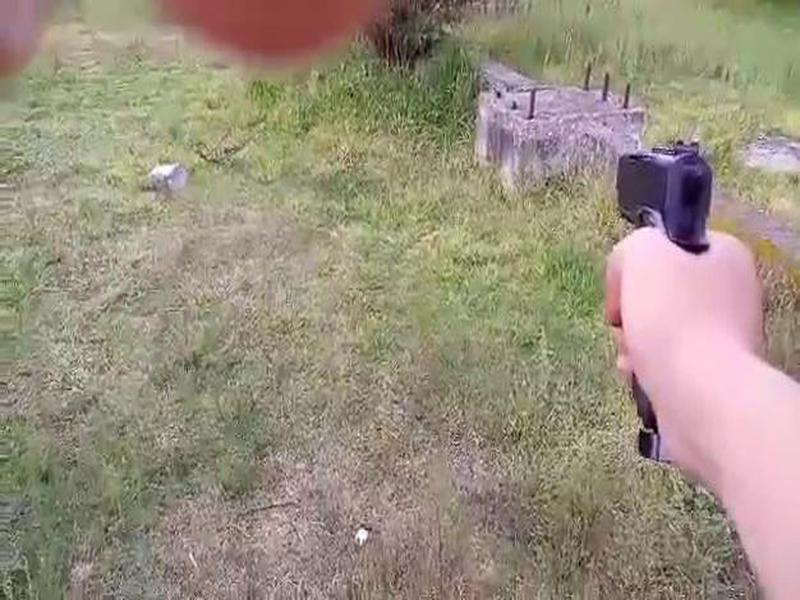Pistola: (591, 128, 739, 403)
